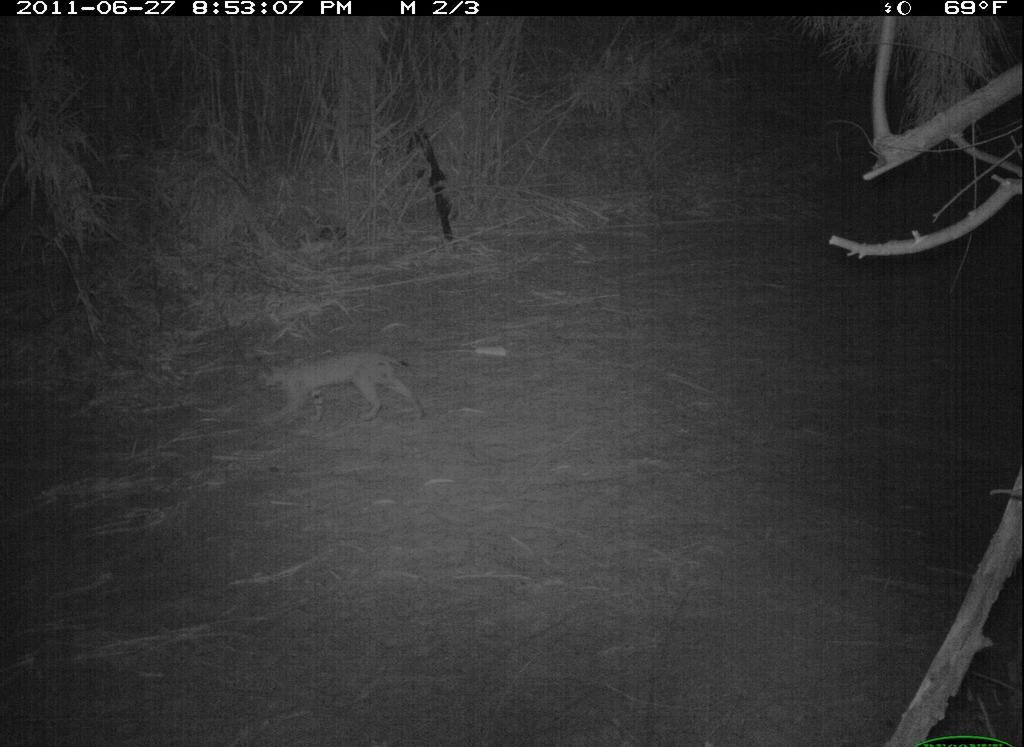bobcat: (244, 340, 438, 445)
